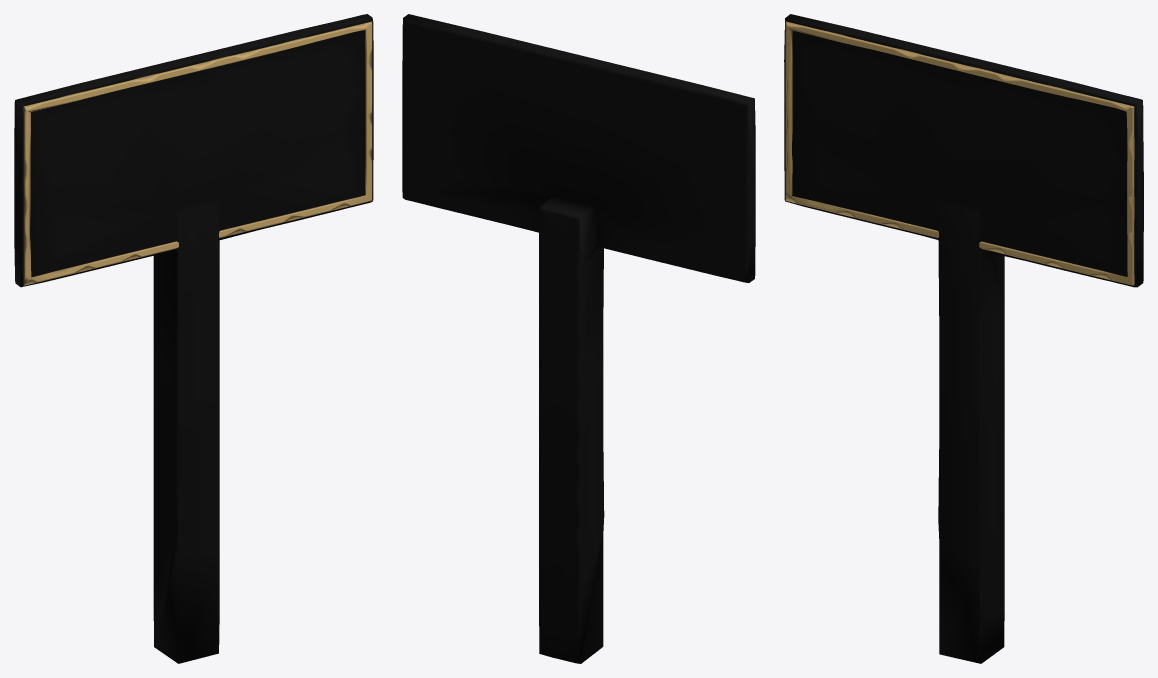
File: sponsor_sign.glb
3 renders of one model, left to right at view 1: azimuth 30°, elevation 25°; view 2: azimuth 150°, elevation 25°; view 3: azimuth 330°, elevation 25°, orthographic.
Visible parts, largest first — view 1: sponsor_sign; view 2: sponsor_sign; view 3: sponsor_sign.
Part boxes in pixels (x1=…): sponsor_sign: x1=14, y1=14, x2=373, y2=663; sponsor_sign: x1=402, y1=14, x2=755, y2=663; sponsor_sign: x1=784, y1=14, x2=1143, y2=663.
Size of the model in its own units: 0.6098 by 0.9837 by 0.075.
